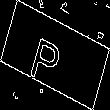P_N: (36, 25, 74, 85)
